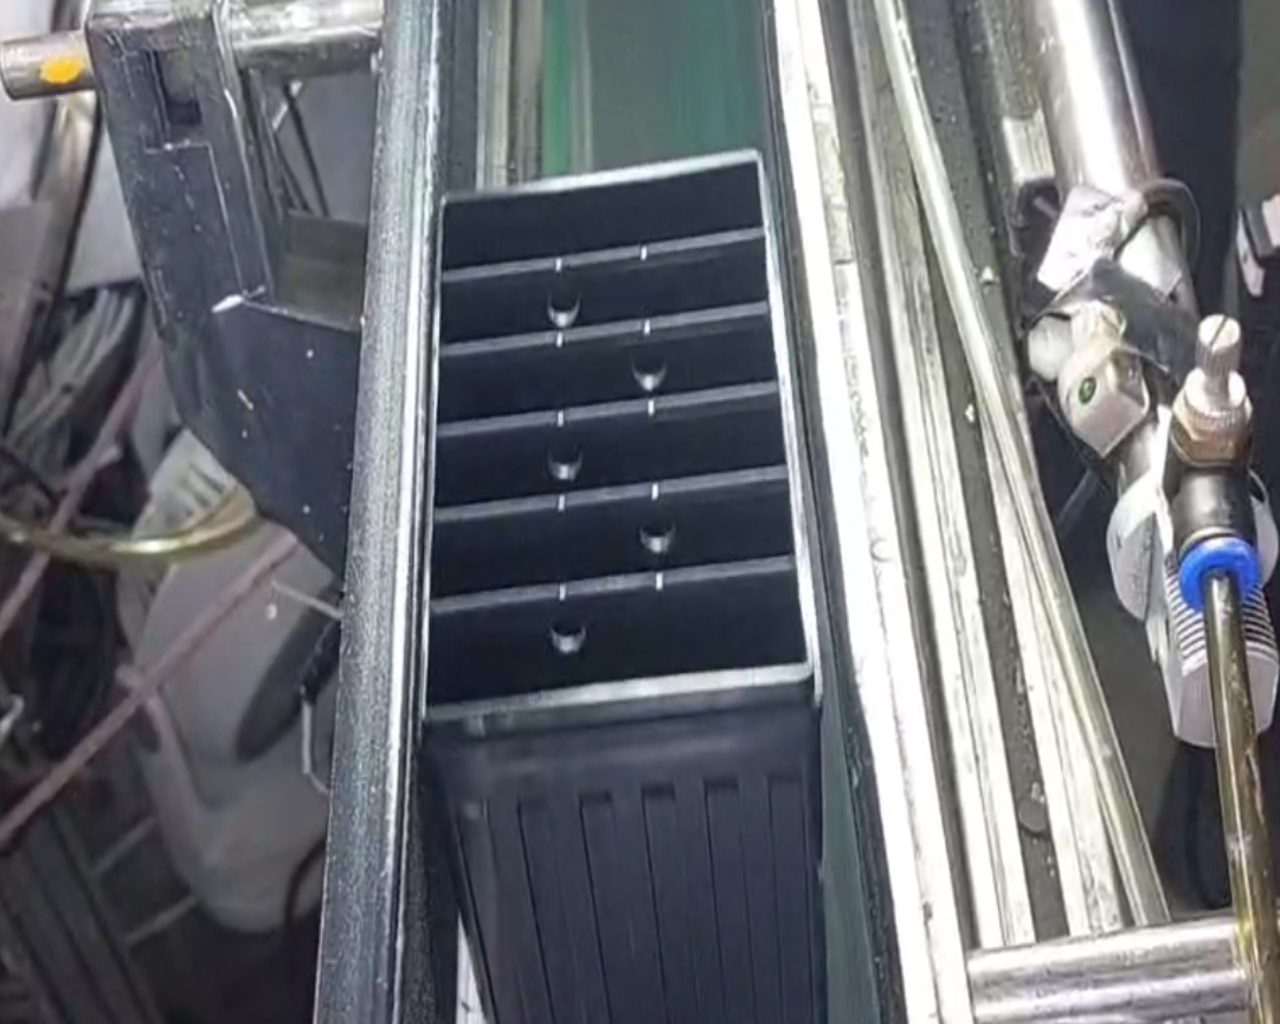box: (378, 124, 856, 730)
round: (530, 593, 602, 667), (527, 424, 597, 492), (525, 272, 595, 337), (621, 335, 681, 400), (627, 497, 687, 559)
